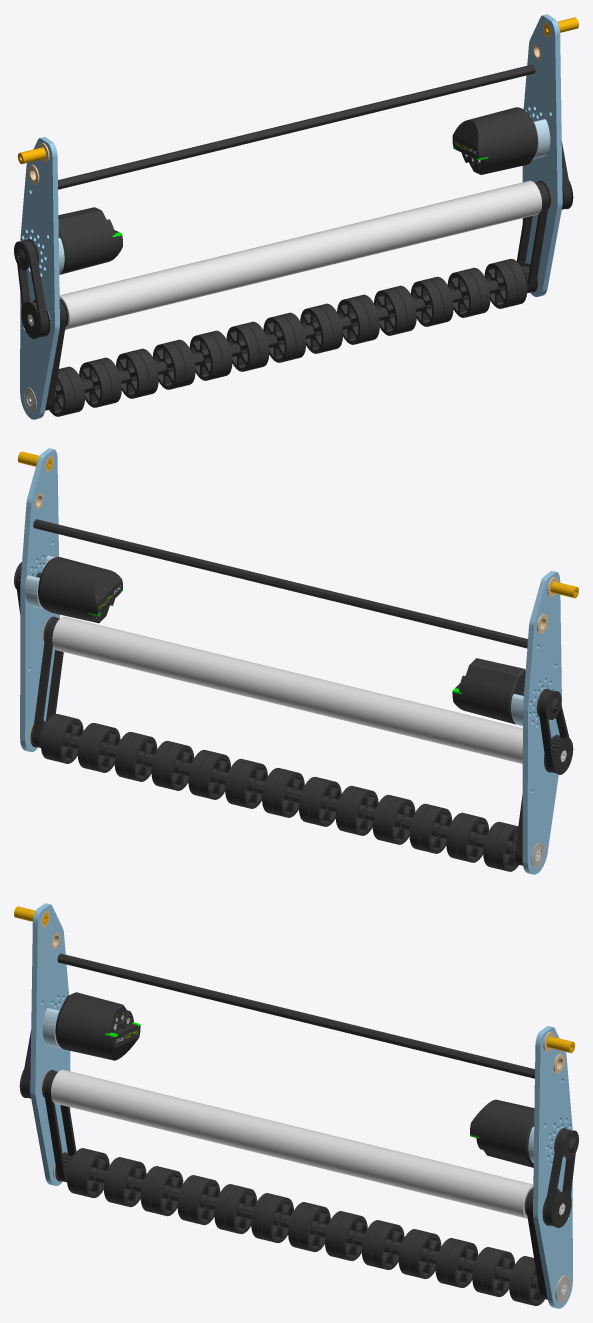
3 renders of one model, top to bottom at view 1: azimuth 30°, elevation 25°; view 2: azimuth 150°, elevation 25°; view 3: azimuth 330°, elevation 25°, orthographic.
Visible parts, largest first — view 1: 2" Flex Wheel (45A, 1/2" Wide, 1/2" Hex Stretch Bore) (×26), Roller (1.5in), roller plate (×2), Kraken X60 Brushless Motor (×2), 3/8" Rounded Hex (24.75" L, 10.25mm OD), 64T 5M 9mm Wide Belt (×2), 1/2" Rounded Hex (25.313"L 13.75mm OD), 50T 5M 9mm Wide Belt, 24t Custom HTD 5mm Pulley (0.375" Wide, *0.5" Hex Bore), MotorStandoff; view 2: Roller (1.5in), roller plate (×2), 2" Flex Wheel (45A, 1/2" Wide, 1/2" Hex Stretch Bore) (×13), Kraken X60 Brushless Motor (×2), 3/8" Rounded Hex (24.75" L, 10.25mm OD), 64T 5M 9mm Wide Belt, 1/2" Rounded Hex (25.313"L 13.75mm OD), 50T 5M 9mm Wide Belt, 24t Custom HTD 5mm Pulley (0.375" Wide, *0.5" Hex Bore); view 3: 2" Flex Wheel (45A, 1/2" Wide, 1/2" Hex Stretch Bore) (×24), Roller (1.5in), roller plate (×2), Kraken X60 Brushless Motor (×2), 3/8" Rounded Hex (24.75" L, 10.25mm OD), 64T 5M 9mm Wide Belt (×2), 1/2" Rounded Hex (25.313"L 13.75mm OD), 50T 5M 9mm Wide Belt, 24t Custom HTD 5mm Pulley (0.375" Wide, *0.5" Hex Bore), MotorStandoff.
Part boxes in pixels (x1,y1,x2,y2): 2" Flex Wheel (45A, 1/2" Wide, 1/2" Hex Stretch Bore) (×26): (49,259,527,416); Roller (1.5in): (59,180,541,329); roller plate (×2): (20,14,562,419); Kraken X60 Brushless Motor (×2): (58,107,537,274); 3/8" Rounded Hex (24.75" L, 10.25mm OD): (58,64,535,189); 64T 5M 9mm Wide Belt (×2): (45,182,549,410); 1/2" Rounded Hex (25.313"L 13.75mm OD): (27,280,498,405); 50T 5M 9mm Wide Belt: (17,240,48,337); 24t Custom HTD 5mm Pulley (0.375" Wide, *0.5" Hex Bore): (21,299,50,338); MotorStandoff: (525,110,550,159); Roller (1.5in): (52,616,522,763); roller plate (×2): (20,448,561,874); 2" Flex Wheel (45A, 1/2" Wide, 1/2" Hex Stretch Bore) (×13): (51,716,518,871); Kraken X60 Brushless Motor (×2): (38,556,525,724); 3/8" Rounded Hex (24.75" L, 10.25mm OD): (33,519,527,648); 64T 5M 9mm Wide Belt: (32,617,63,747); 1/2" Rounded Hex (25.313"L 13.75mm OD): (69,735,540,860); 50T 5M 9mm Wide Belt: (538,689,569,773); 24t Custom HTD 5mm Pulley (0.375" Wide, *0.5" Hex Bore): (544,735,573,774); 2" Flex Wheel (45A, 1/2" Wide, 1/2" Hex Stretch Bore) (×24): (77,1150,544,1305); Roller (1.5in): (51,1069,533,1218); roller plate (×2): (30,903,572,1308); Kraken X60 Brushless Motor (×2): (55,992,534,1167); 3/8" Rounded Hex (24.75" L, 10.25mm OD): (57,953,534,1078); 64T 5M 9mm Wide Belt (×2): (44,1071,547,1299); 1/2" Rounded Hex (25.313"L 13.75mm OD): (95,1169,566,1295); 50T 5M 9mm Wide Belt: (544,1129,575,1226); 24t Custom HTD 5mm Pulley (0.375" Wide, *0.5" Hex Bore): (542,1188,571,1227); MotorStandoff: (42,1008,62,1048).
Size of the model in its own units: 0.7017 by 0.3506 by 0.0795.
